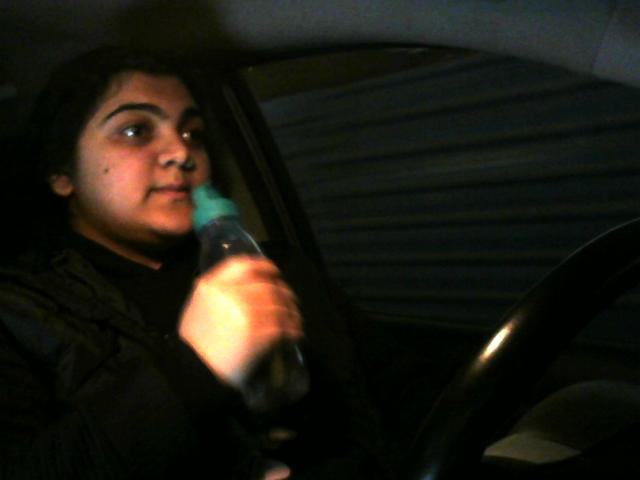Drinking: (47, 75, 312, 408)
